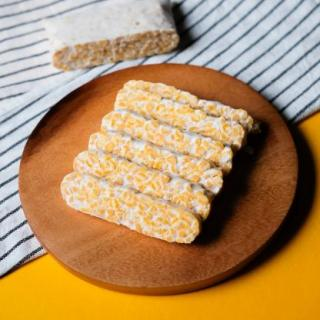Tempe: (60, 78, 257, 246)
